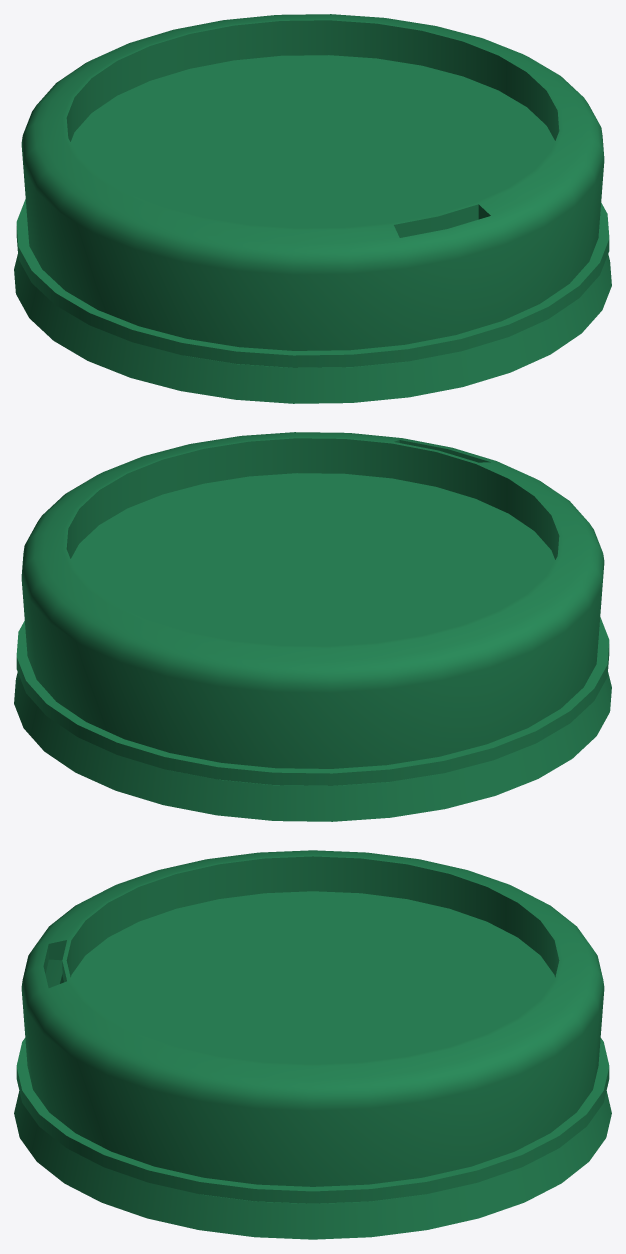
The model's file is Agizlik.fbx.
3 renders of one model, top to bottom at view 1: azimuth 30°, elevation 25°; view 2: azimuth 150°, elevation 25°; view 3: azimuth 270°, elevation 25°, orthographic.
Visible parts, largest first — view 1: bardak_duz_beyaz.001; view 2: bardak_duz_beyaz.001; view 3: bardak_duz_beyaz.001.
Boxes of the visible parts, x1,y1,x2,y2 form: bardak_duz_beyaz.001: [14, 14, 611, 403]; bardak_duz_beyaz.001: [14, 432, 611, 821]; bardak_duz_beyaz.001: [14, 850, 611, 1239].
Bounding box in the file's own units: 17.1 × 4.82 × 17.1.
